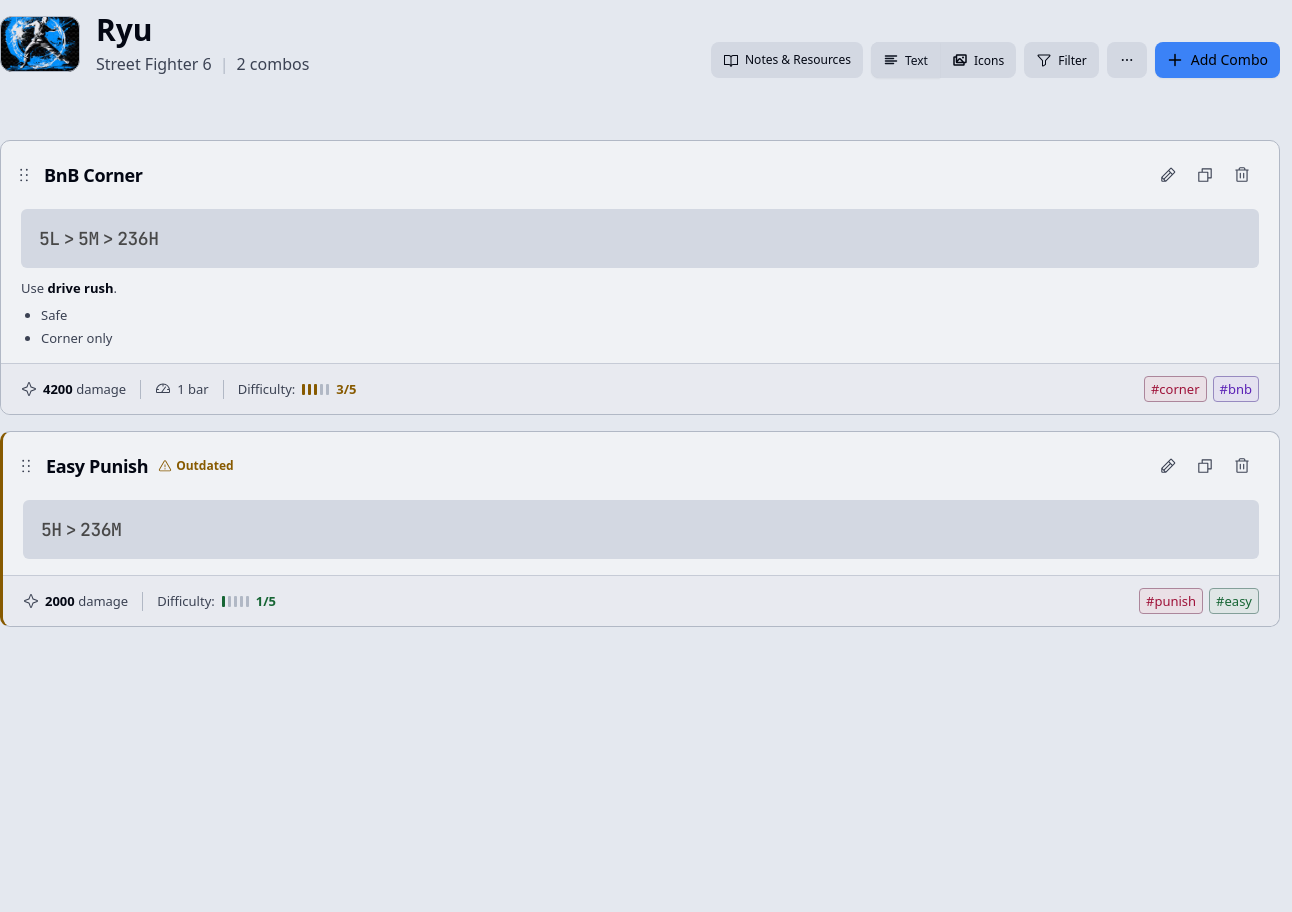
Scenario: ComboView › shows empty filter result message
Click the button titled "Filter Combos". click: (1061, 60)
box: [1024,42,1099,78]
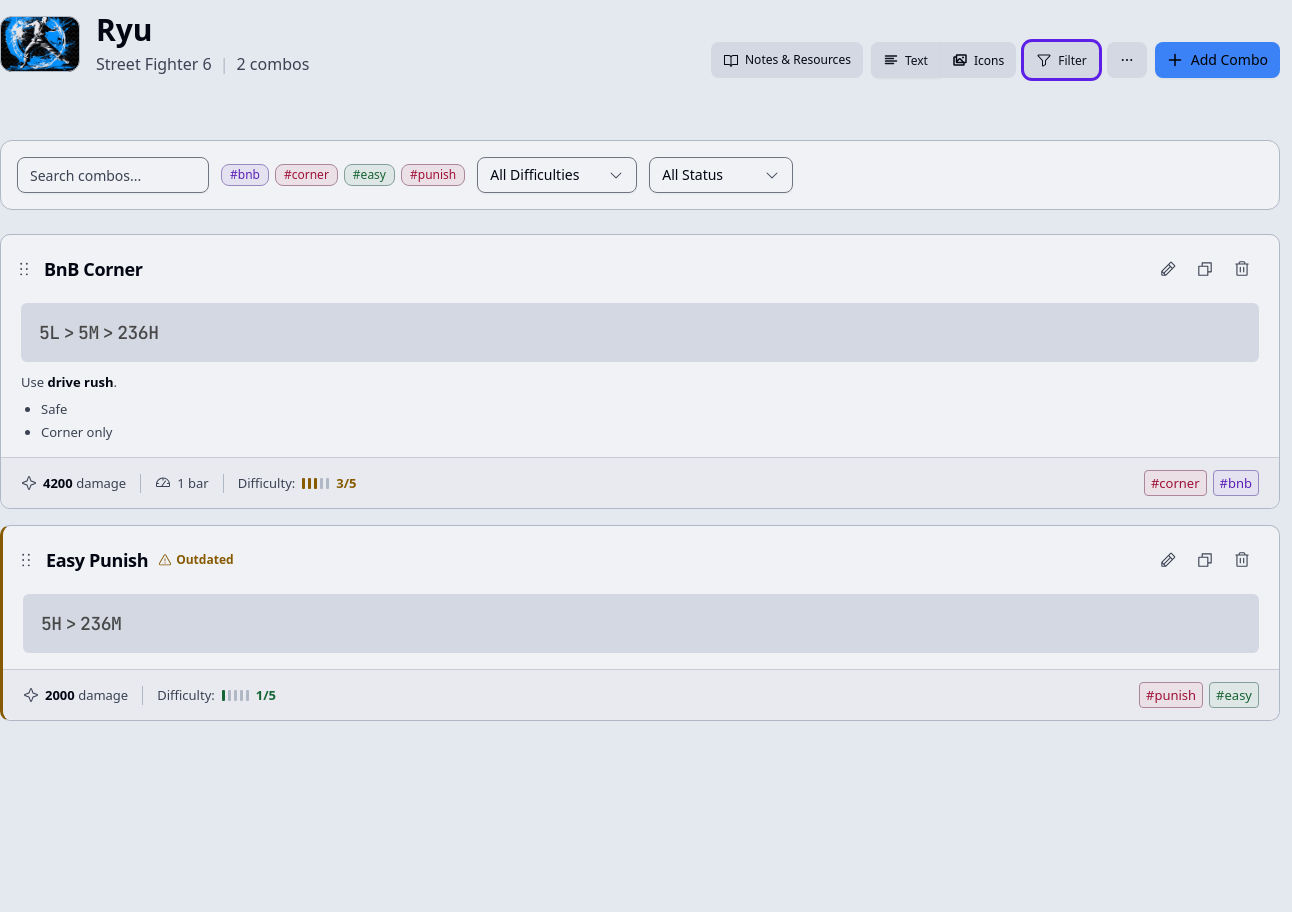
Type "nonexistent combo xyz" into the field with placeholder "Search combos...". click: (113, 175)
box: [17,157,209,193]
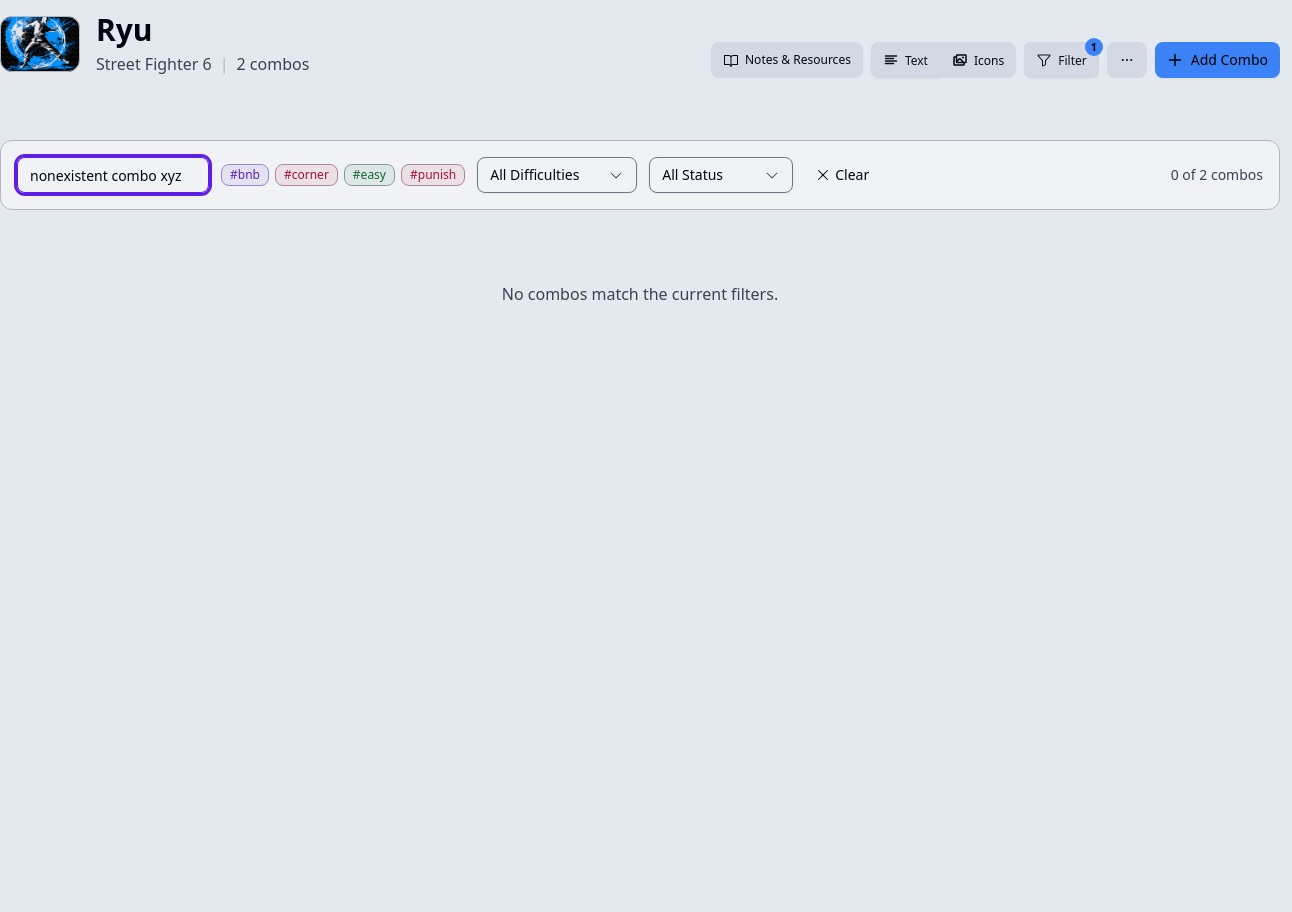
Result: the text "No combos match the current filters." is shown at [502,283,778,305]
